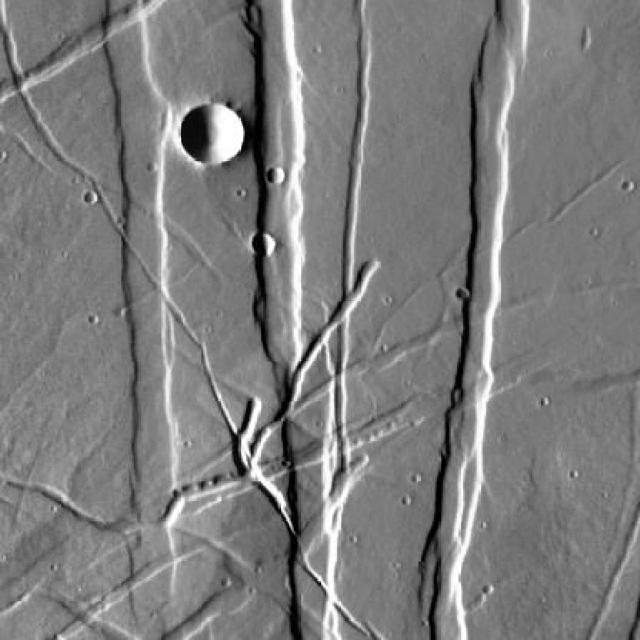crater: (177, 100, 241, 163), (252, 238, 273, 259), (266, 170, 282, 188)
